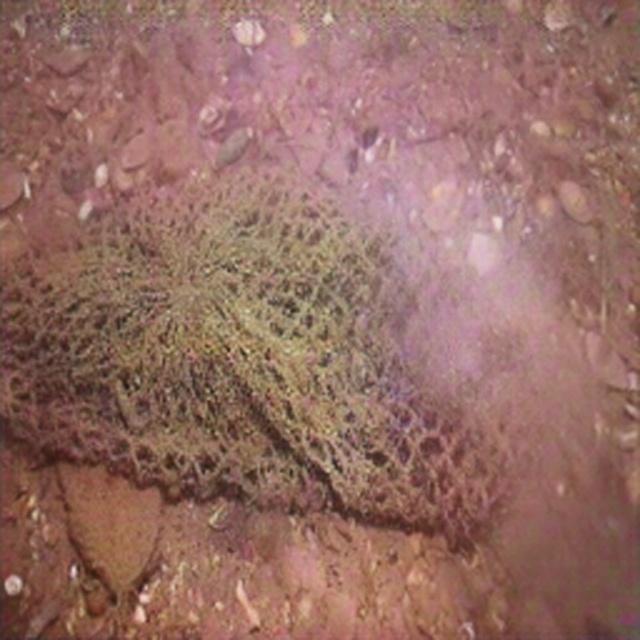mine: (0, 172, 528, 523)
